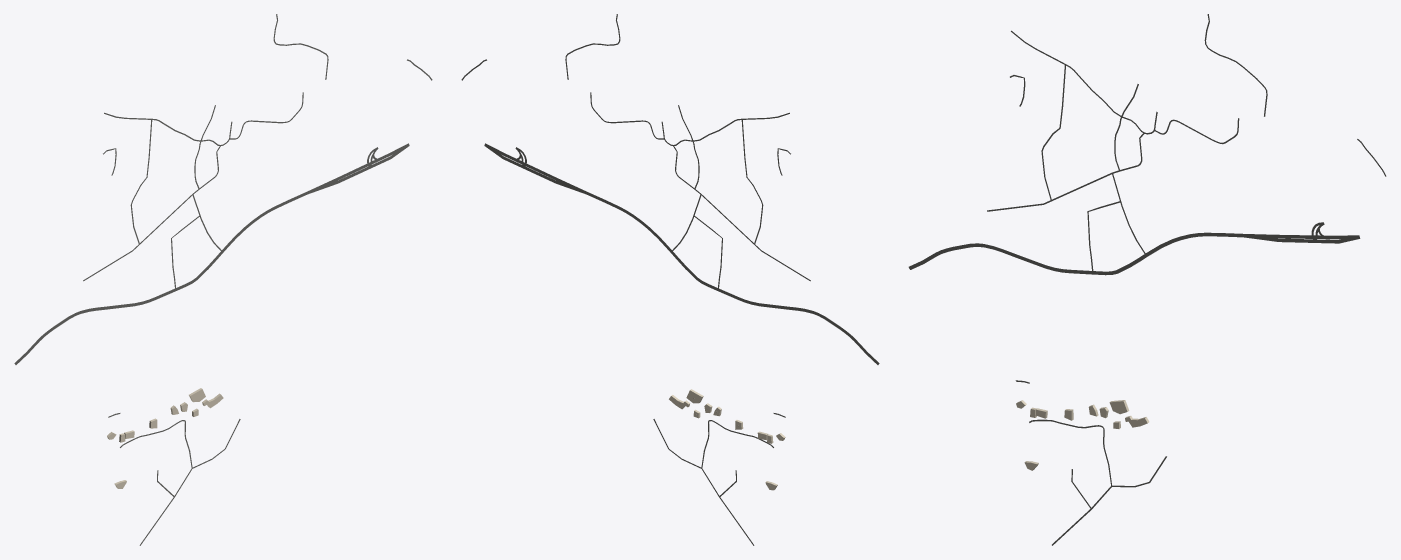
Rendered from historic-palestine-09_27_3509_3211.glb.
The picture shows the model from 3 angles, left to right: view 1: azimuth 30°, elevation 25°; view 2: azimuth 150°, elevation 25°; view 3: azimuth 330°, elevation 25°; orthographic projection. The views are drawn at different scales.
Visible parts, largest first — view 1: Road .008; view 2: Road .008; view 3: Road .008.
Boxes of the visible parts, bbox=[...] form: Road .008: bbox=[14, 192, 307, 364]; Road .008: bbox=[586, 192, 879, 364]; Road .008: bbox=[908, 232, 1243, 275].
Size of the model in its own units: 1147 by 1306 by 8.7.
